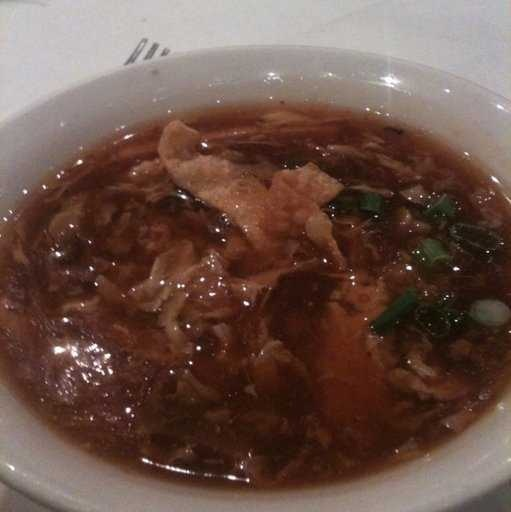soup: (1, 77, 477, 476)
